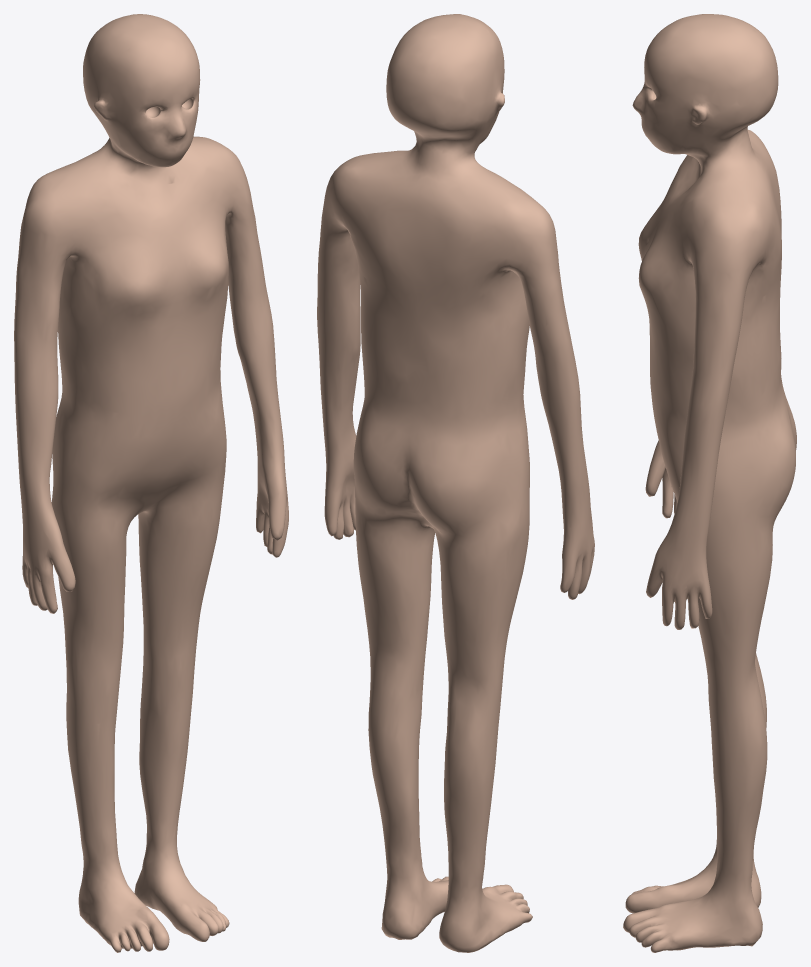
Rendered from pediatric_child_10y_female.surface.LOD0.glb.
The picture shows the model from 3 angles, left to right: view 1: azimuth 30°, elevation 25°; view 2: azimuth 150°, elevation 25°; view 3: azimuth 270°, elevation 25°; orthographic projection.
Visible parts, largest first — view 1: PEDIATRIC.CHILD_10Y.FEMALE.SURFACE.SKIN; view 2: PEDIATRIC.CHILD_10Y.FEMALE.SURFACE.SKIN; view 3: PEDIATRIC.CHILD_10Y.FEMALE.SURFACE.SKIN.
Boxes of the visible parts, x1=… form: PEDIATRIC.CHILD_10Y.FEMALE.SURFACE.SKIN: x1=14, y1=14, x2=288, y2=952; PEDIATRIC.CHILD_10Y.FEMALE.SURFACE.SKIN: x1=317, y1=14, x2=594, y2=952; PEDIATRIC.CHILD_10Y.FEMALE.SURFACE.SKIN: x1=623, y1=14, x2=796, y2=952.
Bounding box in the file's own units: 0.4126 × 1.38 × 0.2406.
